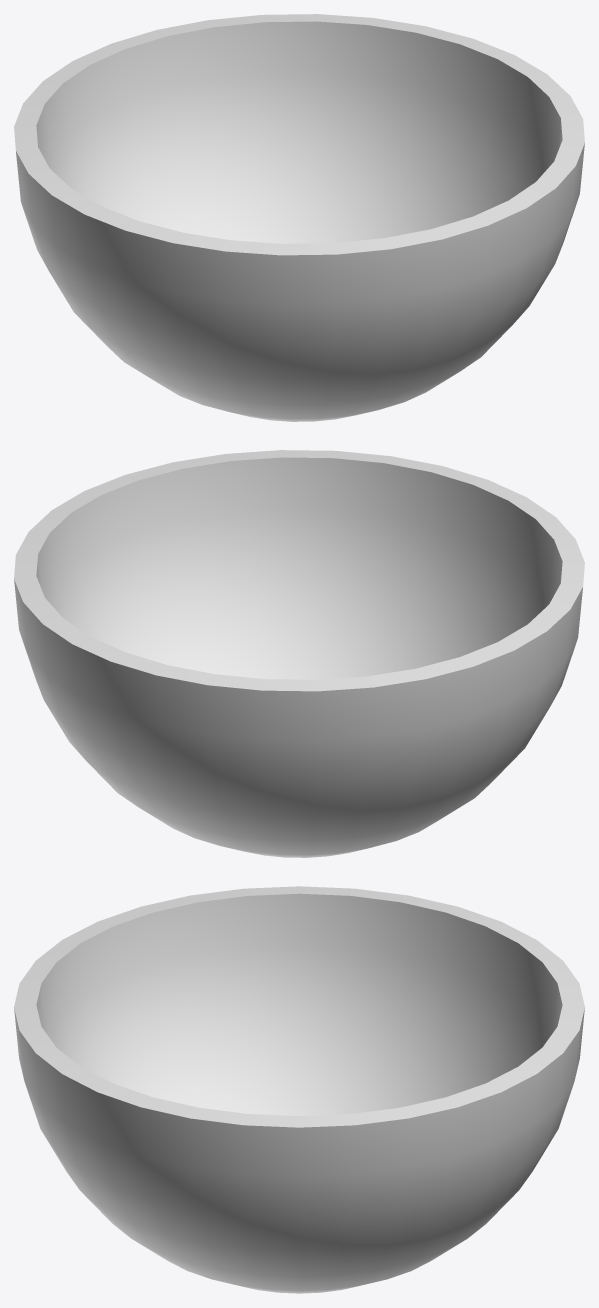
The model's file is bowl.fbx.
3 renders of one model, top to bottom at view 1: azimuth 30°, elevation 25°; view 2: azimuth 150°, elevation 25°; view 3: azimuth 270°, elevation 25°, orthographic.
Parts seen in each view (by area): view 1: bowl; view 2: bowl; view 3: bowl.
Part boxes in pixels (x1,y1,x2,y2): bowl: (14, 14, 584, 421); bowl: (14, 450, 584, 857); bowl: (14, 886, 584, 1293).
Size of the model in its own units: 15.21 by 7.13 by 15.21.
1 material, 1 textured.
